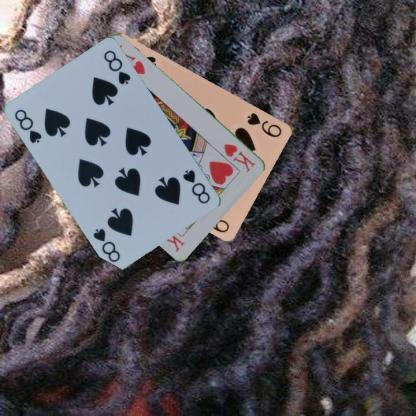8s: (180, 167, 212, 205), (12, 106, 43, 145)
9s: (244, 110, 284, 138)
Kh: (221, 141, 257, 174)
